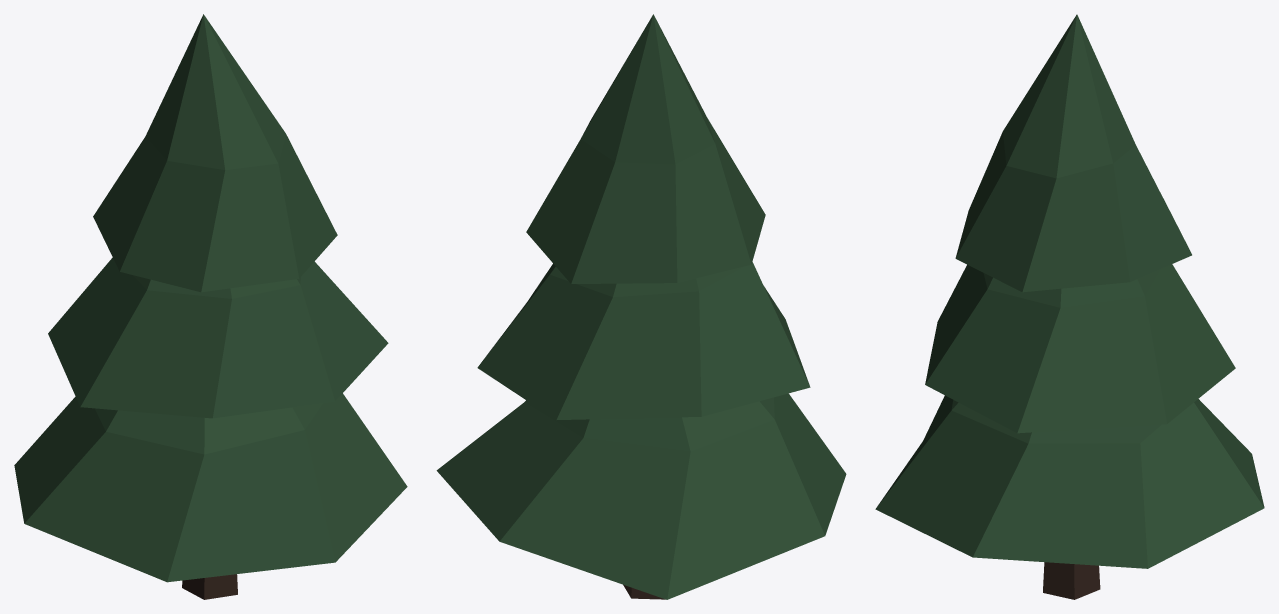
Rendered from deco_pine_m.glb.
3 views of the same model, side by side, from view 1: azimuth 30°, elevation 25°; view 2: azimuth 150°, elevation 25°; view 3: azimuth 270°, elevation 25° (orthographic).
Parts seen in each view (by area): view 1: deco_pine_m_mesh; view 2: deco_pine_m_mesh; view 3: deco_pine_m_mesh.
Part boxes in pixels (<box>): deco_pine_m_mesh: <box>14,14,407,599</box>; deco_pine_m_mesh: <box>436,14,846,599</box>; deco_pine_m_mesh: <box>875,14,1264,599</box>.
Bounding box in the file's own units: 0.2264 × 0.35 × 0.2165.
